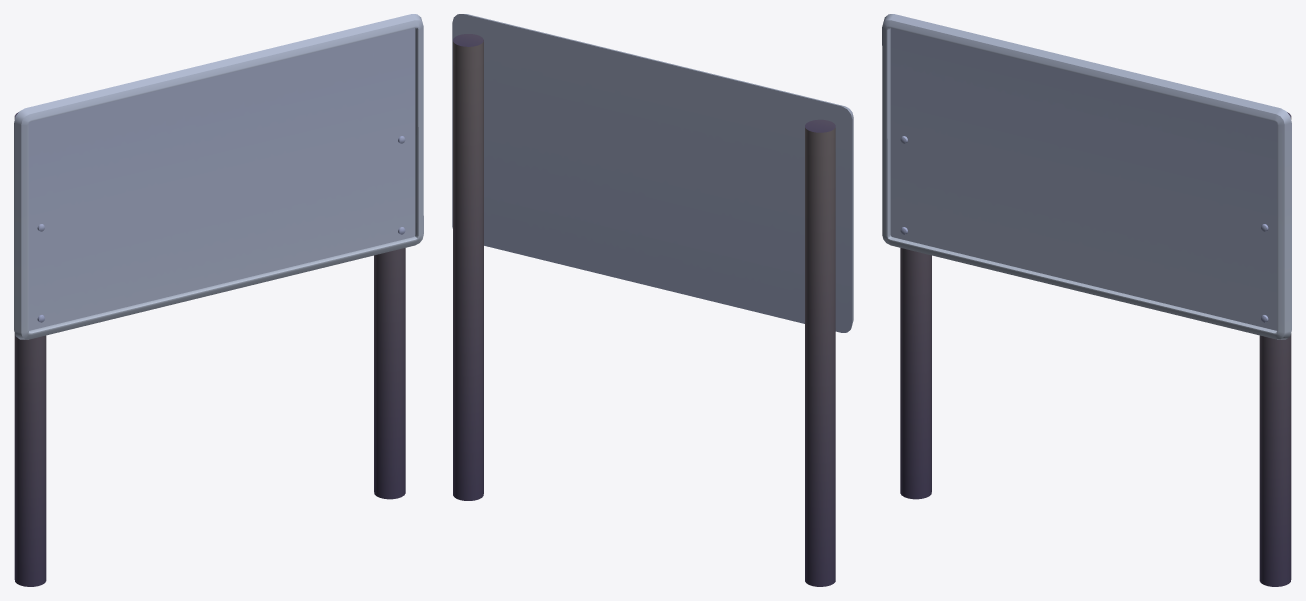
Rendered from PR_TutorialSignage.fbx.
3 views of the same model, side by side, from view 1: azimuth 30°, elevation 25°; view 2: azimuth 150°, elevation 25°; view 3: azimuth 330°, elevation 25° (orthographic). The views are drawn at different scales.
Parts seen in each view (by area): view 1: PR_TutorialSignage; view 2: PR_TutorialSignage; view 3: PR_TutorialSignage.
Part boxes in pixels (x1,y1,x2,y2): PR_TutorialSignage: [14, 14, 423, 586]; PR_TutorialSignage: [452, 14, 853, 586]; PR_TutorialSignage: [882, 14, 1291, 586].
Bounding box in the file's own units: 213 × 239 × 19.27.
Materials: 1 (1 with a texture image).
